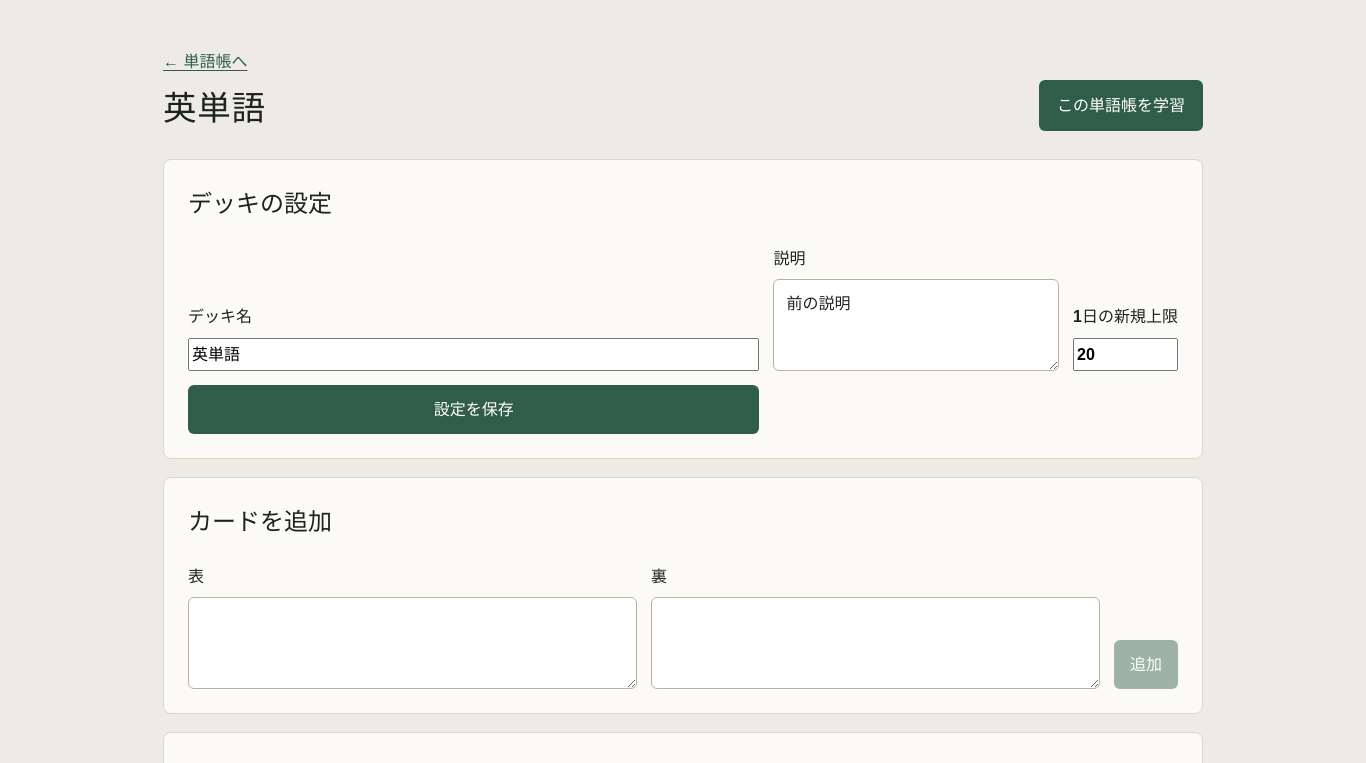
Scenario: デッキの設定 › 説明を空にすると説明なしとして送る
Clear the text box labelled "説明" at coordinates (916, 325), box [773,279,1059,371]
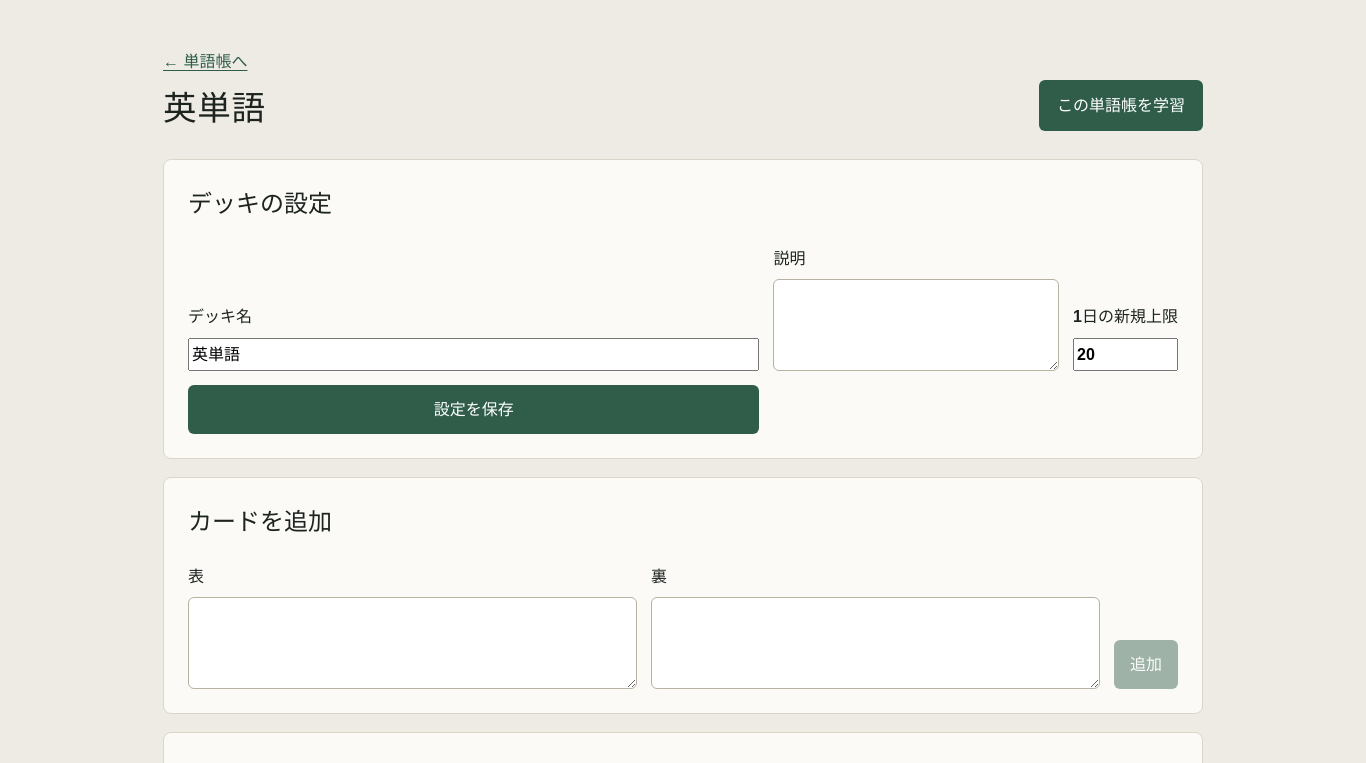
Click the button "設定を保存" at coordinates (474, 409), box [188,385,759,434]
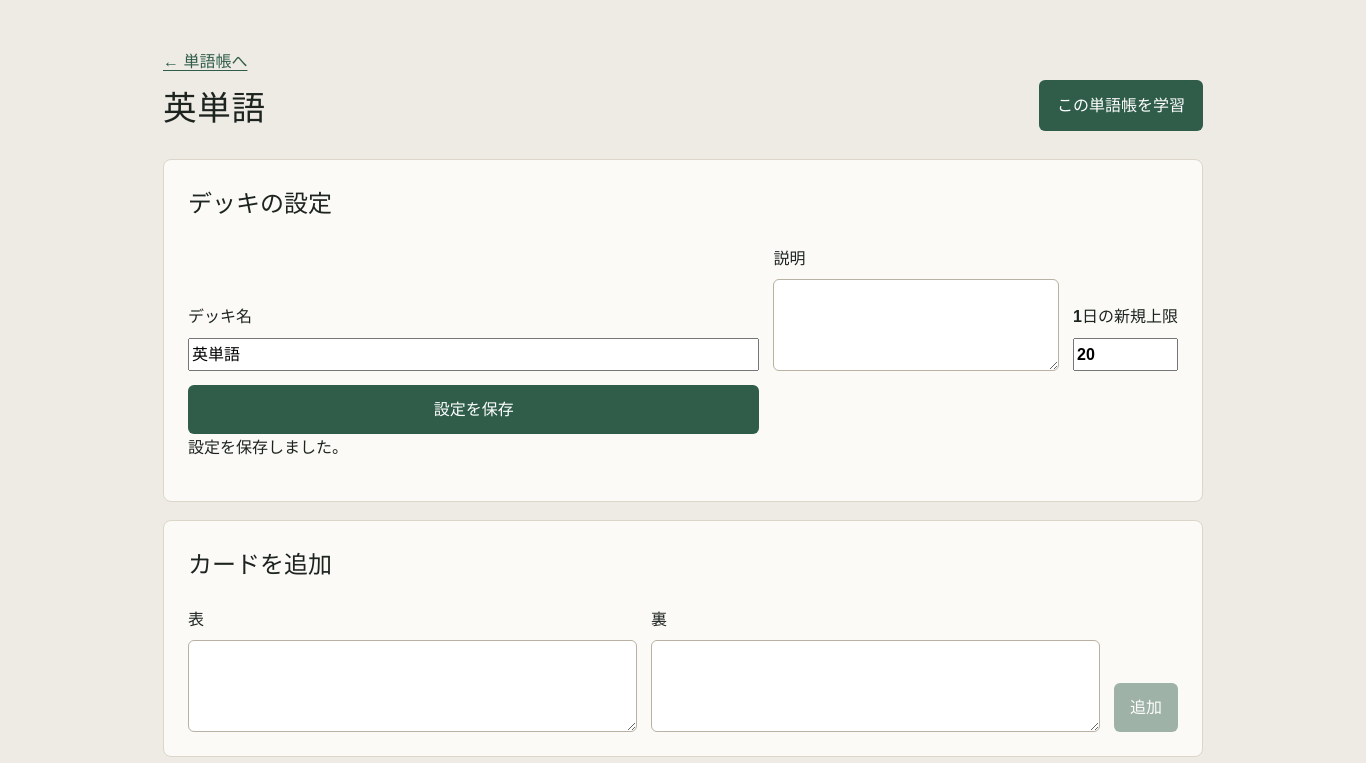
Check: the text "設定を保存しました。" is shown, box [188,439,348,456]
